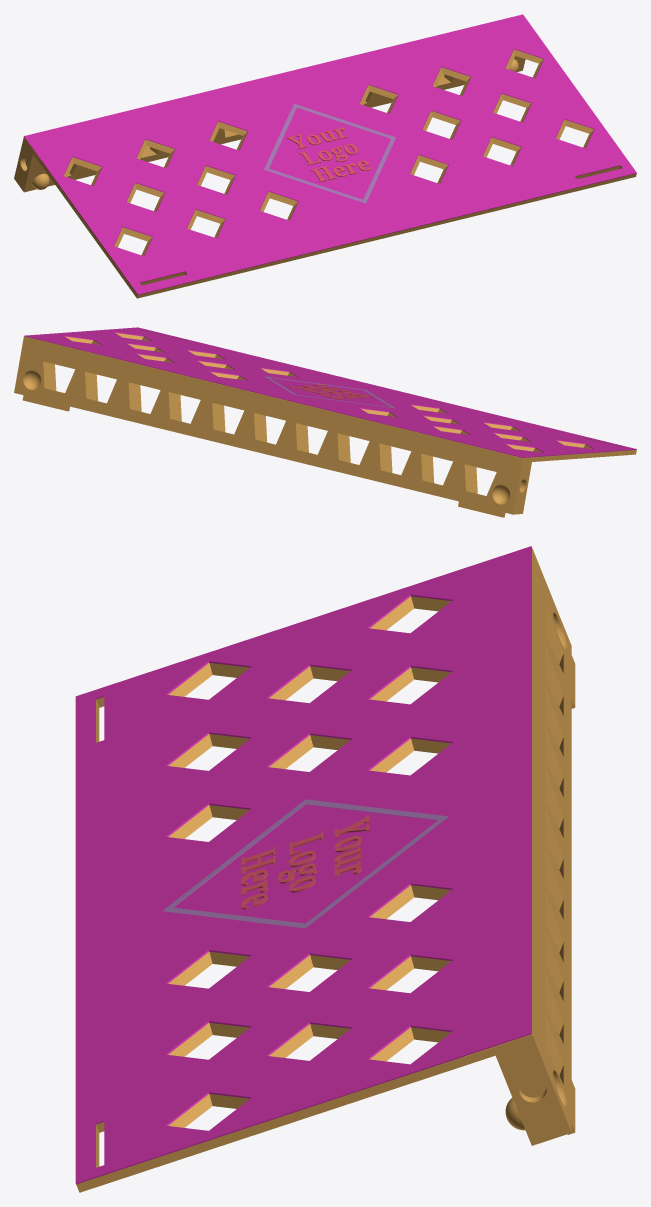
The model's file is Box_Risers_217.5mm_V2.1.glb.
3 views of the same model, one above another, from view 1: azimuth 30°, elevation 25°; view 2: azimuth 150°, elevation 25°; view 3: azimuth 270°, elevation 25° (orthographic). The views are drawn at different scales.
Visible parts, largest first — view 1: Mesh_Mesh_head_geo.001_lambert2SG.001; view 2: Mesh_Mesh_head_geo.001_lambert2SG.001; view 3: Mesh_Mesh_head_geo.001_lambert2SG.001.
Boxes of the visible parts, x1,y1,x2,y2 form: Mesh_Mesh_head_geo.001_lambert2SG.001: (14,14,636,298); Mesh_Mesh_head_geo.001_lambert2SG.001: (14,327,636,517); Mesh_Mesh_head_geo.001_lambert2SG.001: (75,546,575,1192).
Size of the model in its own units: 218 by 33.26 by 94.3.
